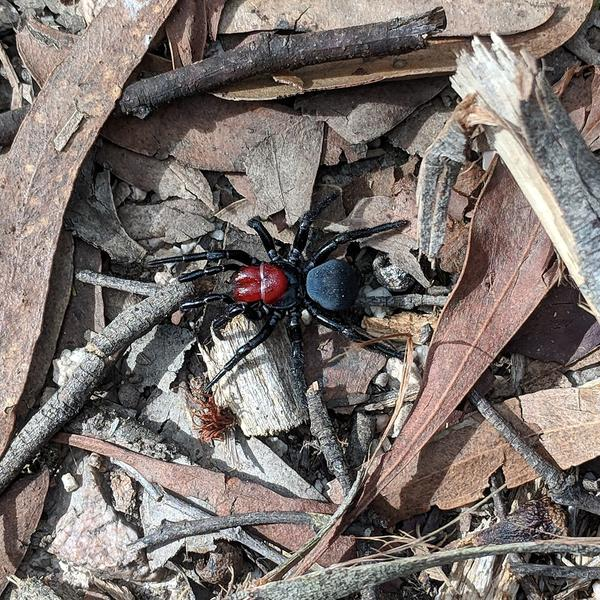Red Headed Mouse Spider: (158, 196, 410, 380)
